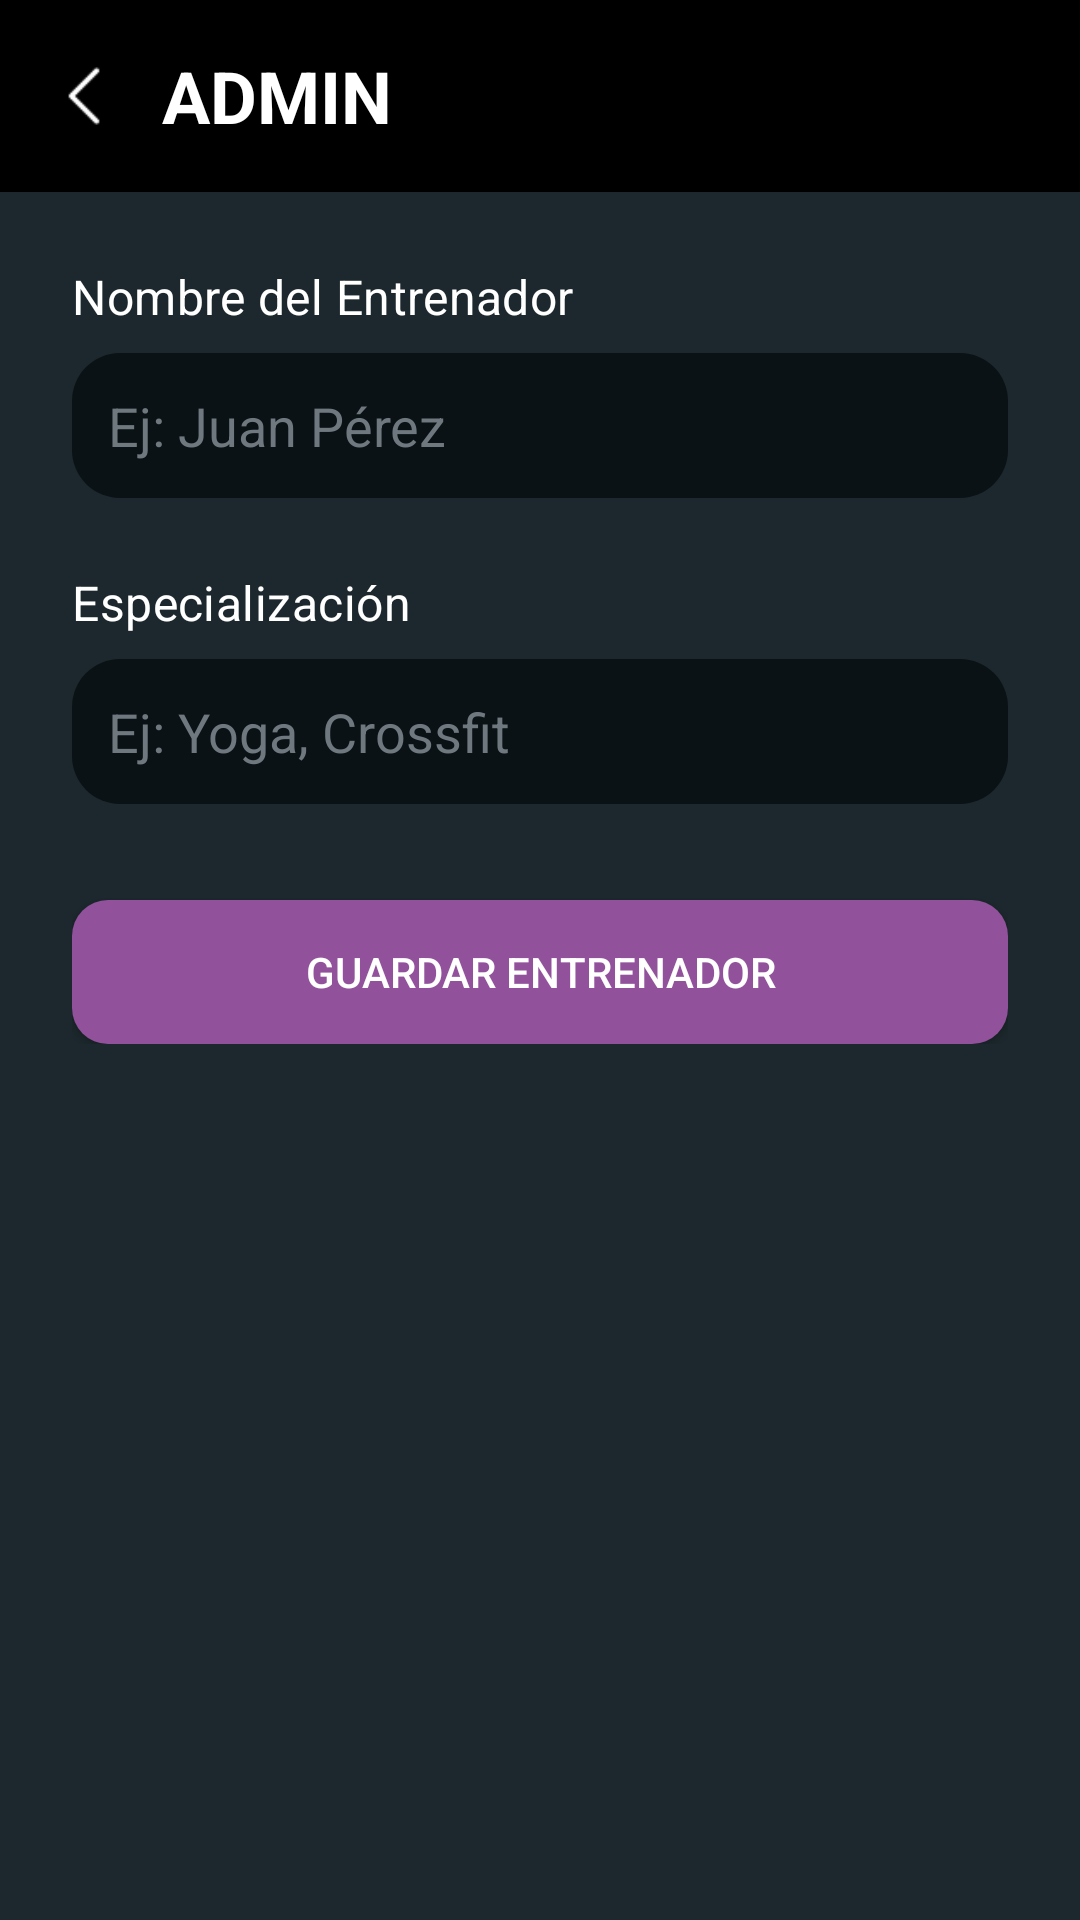

Icons on this 1080px×1920px Android screen, each with the point to tap as [x,y]:
atras: [84,96]
